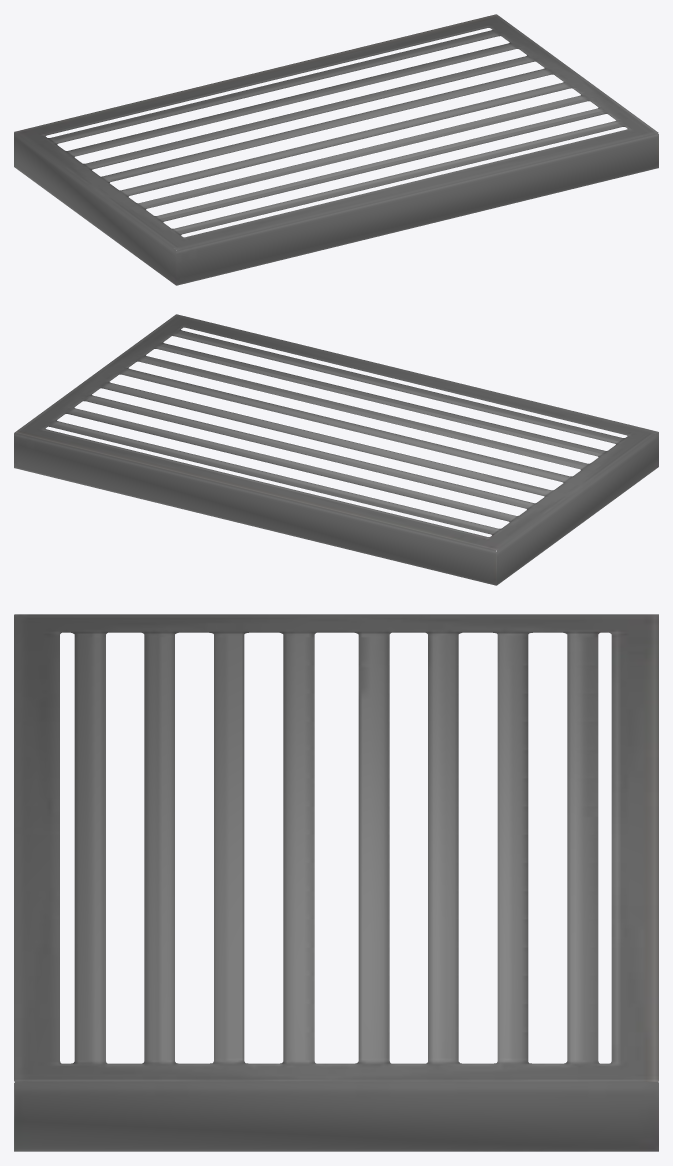
Rendered from Part - Detail 04-HzNUUcT9.glb.
3 views of the same model, one above another, from view 1: azimuth 30°, elevation 25°; view 2: azimuth 150°, elevation 25°; view 3: azimuth 270°, elevation 25° (orthographic). The views are drawn at different scales.
Visible parts, largest first — view 1: Detail_04; view 2: Detail_04; view 3: Detail_04.
Part boxes in pixels (bbox=[...]): Detail_04: bbox=[14, 14, 658, 285]; Detail_04: bbox=[14, 314, 658, 585]; Detail_04: bbox=[14, 614, 658, 1151].
Bounding box in the file's own units: 1.47 × 0.102 × 0.8564.
1 material, 1 textured.
